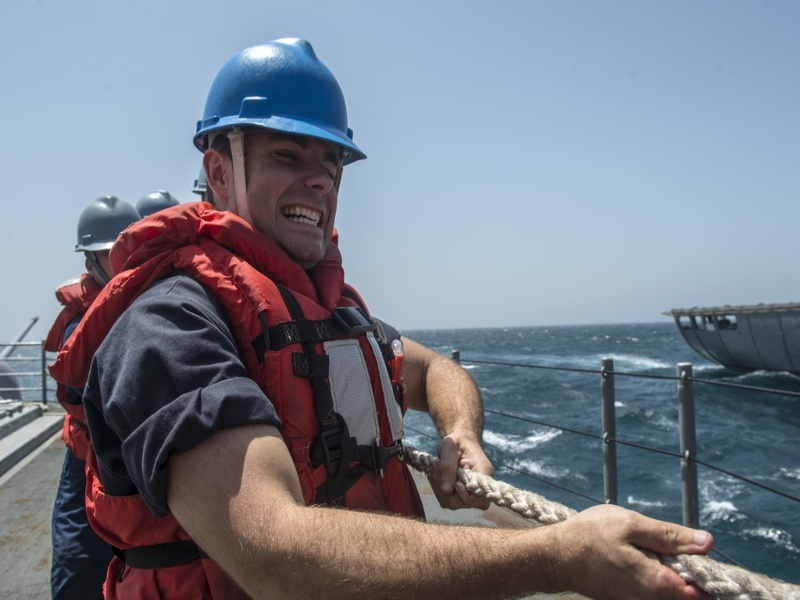Baret: (195, 36, 368, 171)
